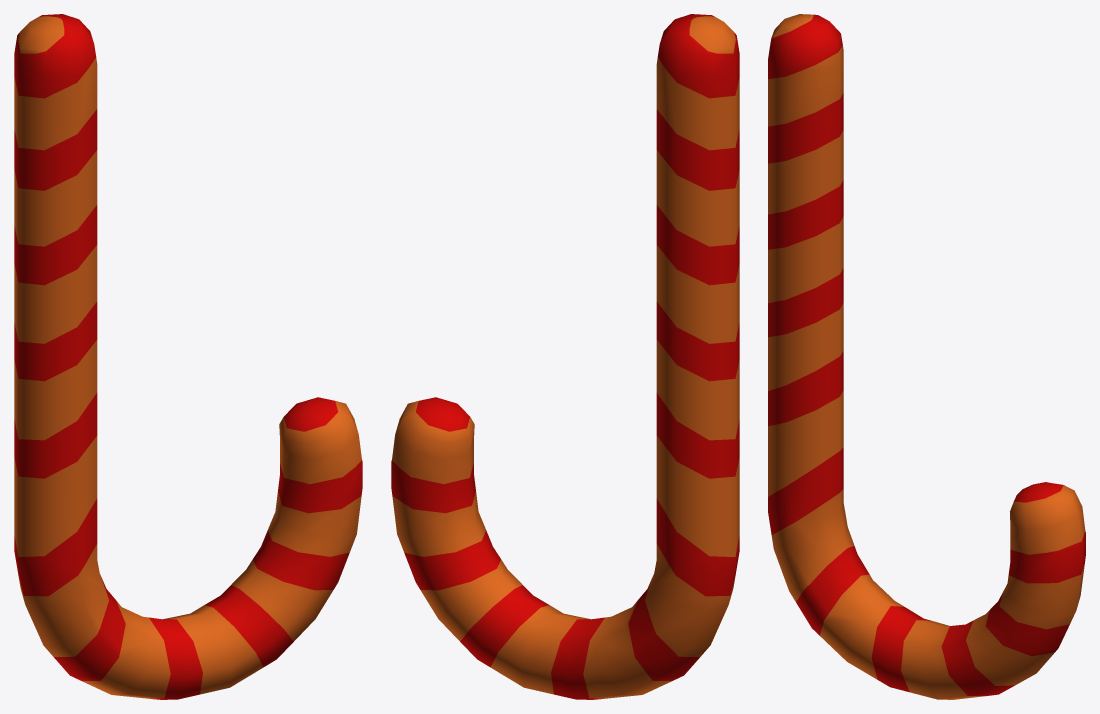
Rendered from candy_1.fbx.
3 renders of one model, left to right at view 1: azimuth 30°, elevation 25°; view 2: azimuth 150°, elevation 25°; view 3: azimuth 330°, elevation 25°, orthographic. The views are drawn at different scales.
Visible parts, largest first — view 1: axe1H7.001; view 2: axe1H7.001; view 3: axe1H7.001.
Part boxes in pixels (x1=…): axe1H7.001: x1=14, y1=14, x2=362, y2=699; axe1H7.001: x1=391, y1=14, x2=739, y2=699; axe1H7.001: x1=768, y1=14, x2=1085, y2=699.
Bounding box in the file's own units: 51.06 × 102 × 11.18.
